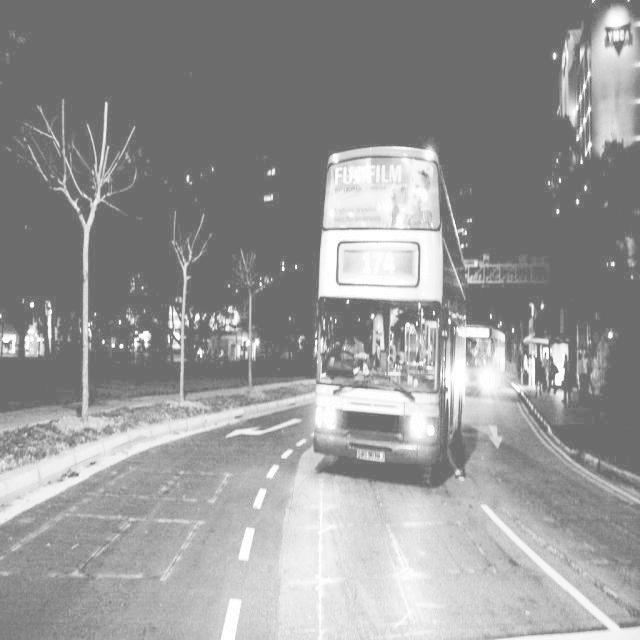Bus: (310, 121, 471, 500)
Tree: (22, 82, 134, 424), (167, 195, 208, 408)
